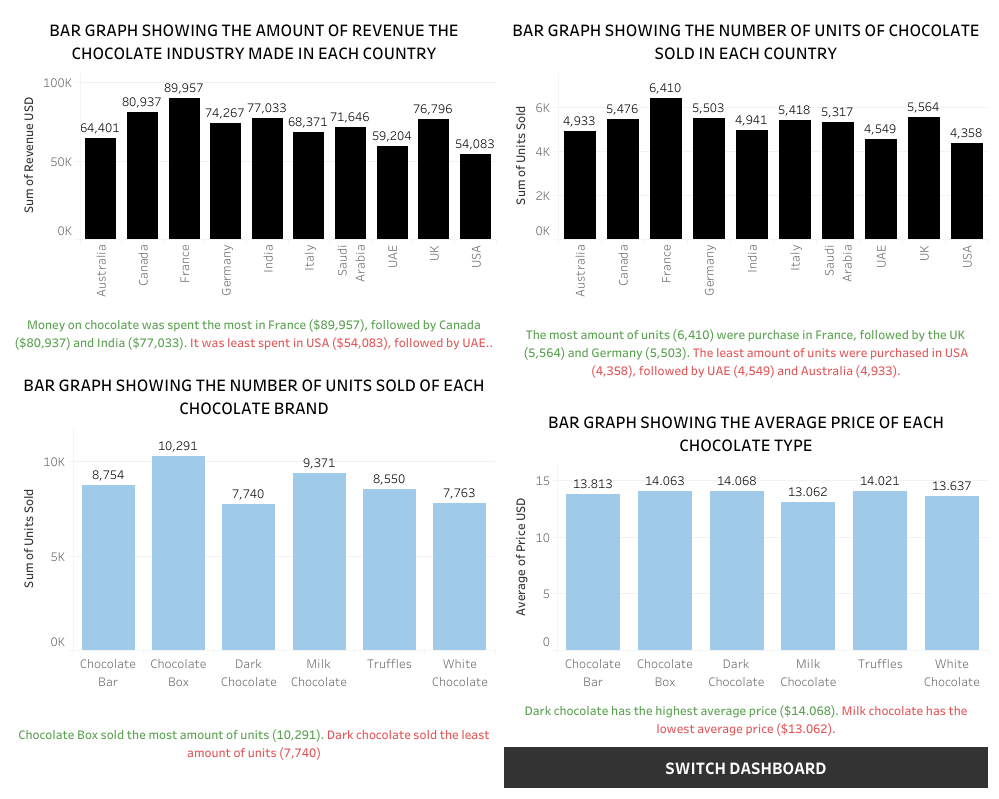

The page's visual inventory and layout, read from the dashboard file:
{"tool":"tableau","page":{"name":"VISUALISATION 1","canvas":[1000,800],"ordinal":0},"visuals":[{"type":"worksheet","title":"Sheet 2","mark":"Automatic","rows":["Sum of Revenue_USD"],"cols":["Row Labels"],"box":[8,8,492,295]},{"type":"worksheet","title":"Sheet 3","mark":"Automatic","rows":["Sum of Units_Sold"],"cols":["Row Labels"],"box":[500,8,492,295]},{"type":"text","box":[8,303,492,60]},{"type":"text","box":[500,303,492,97]},{"type":"worksheet","title":"Sheet 4","mark":"Automatic","rows":["Sum of Units_Sold"],"cols":["Row Labels"],"box":[8,363,492,331]},{"type":"worksheet","title":"Sheet 6","mark":"Automatic","rows":["Average of Price_USD"],"cols":["Row Labels"],"box":[500,400,492,294]},{"type":"text","box":[8,694,492,98]},{"type":"text","box":[500,694,492,49]},{"type":"dashboard-object","box":[500,743,492,49]}]}

Visuals, with their boxes in screenshot pixels (x1, y1, x2, y2), scaled from the page's 1000x800 canvas onto the 999x799 screenshot:
"Sheet 2" worksheet: bbox=[8, 8, 500, 303]
"Sheet 3" worksheet: bbox=[500, 8, 991, 303]
text: bbox=[8, 303, 500, 363]
text: bbox=[500, 303, 991, 400]
"Sheet 4" worksheet: bbox=[8, 363, 500, 693]
"Sheet 6" worksheet: bbox=[500, 400, 991, 693]
text: bbox=[8, 693, 500, 791]
text: bbox=[500, 693, 991, 742]
dashboard-object: bbox=[500, 742, 991, 791]
